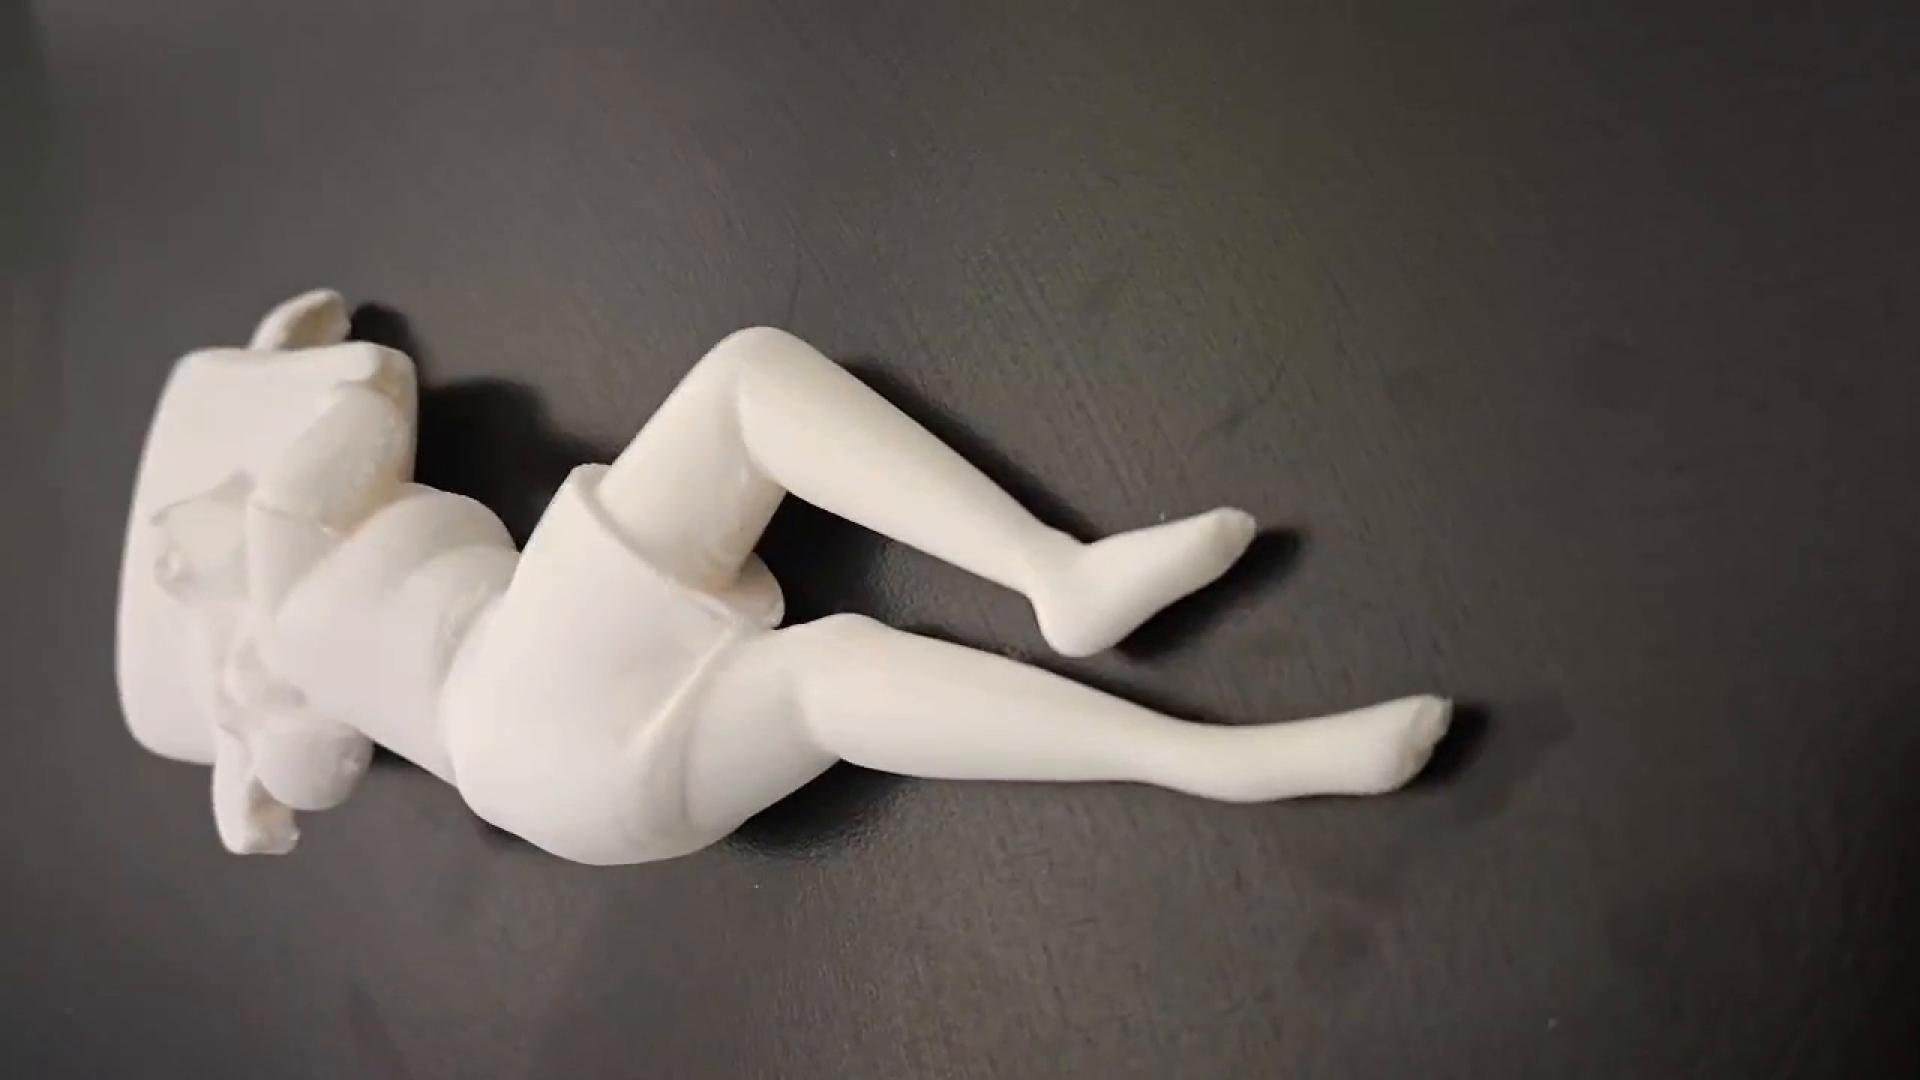Good-style: (63, 276, 1523, 986)
